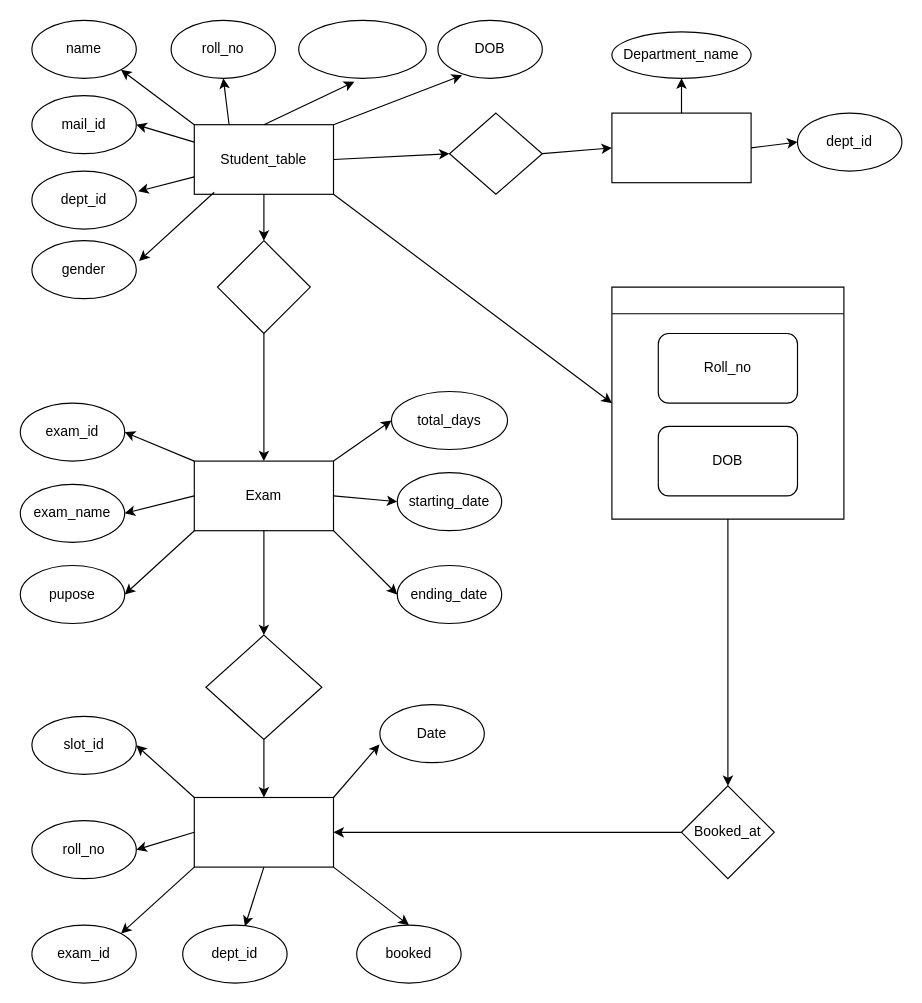
Image size: 922x1003. Some labels were removed from this diagram. Each missing label, with the box of its shape:
assigned_at: (205, 634, 322, 740)
Department: (611, 112, 751, 183)
hostel/dayscholar: (298, 19, 426, 78)
Slots: (193, 796, 334, 867)
studied_in: (448, 112, 542, 194)
view_table: (611, 286, 844, 519)
writes: (216, 240, 310, 334)
